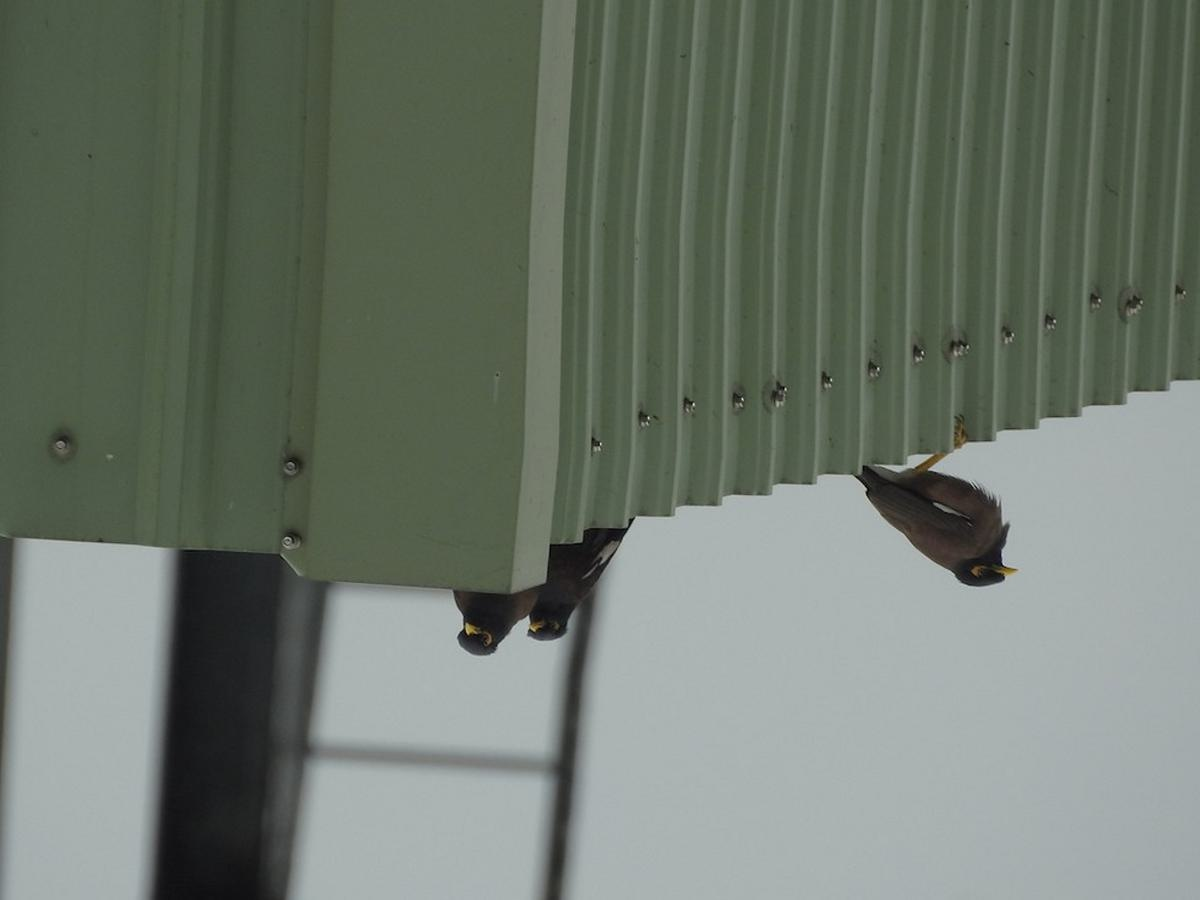myna: (824, 387, 1041, 633)
